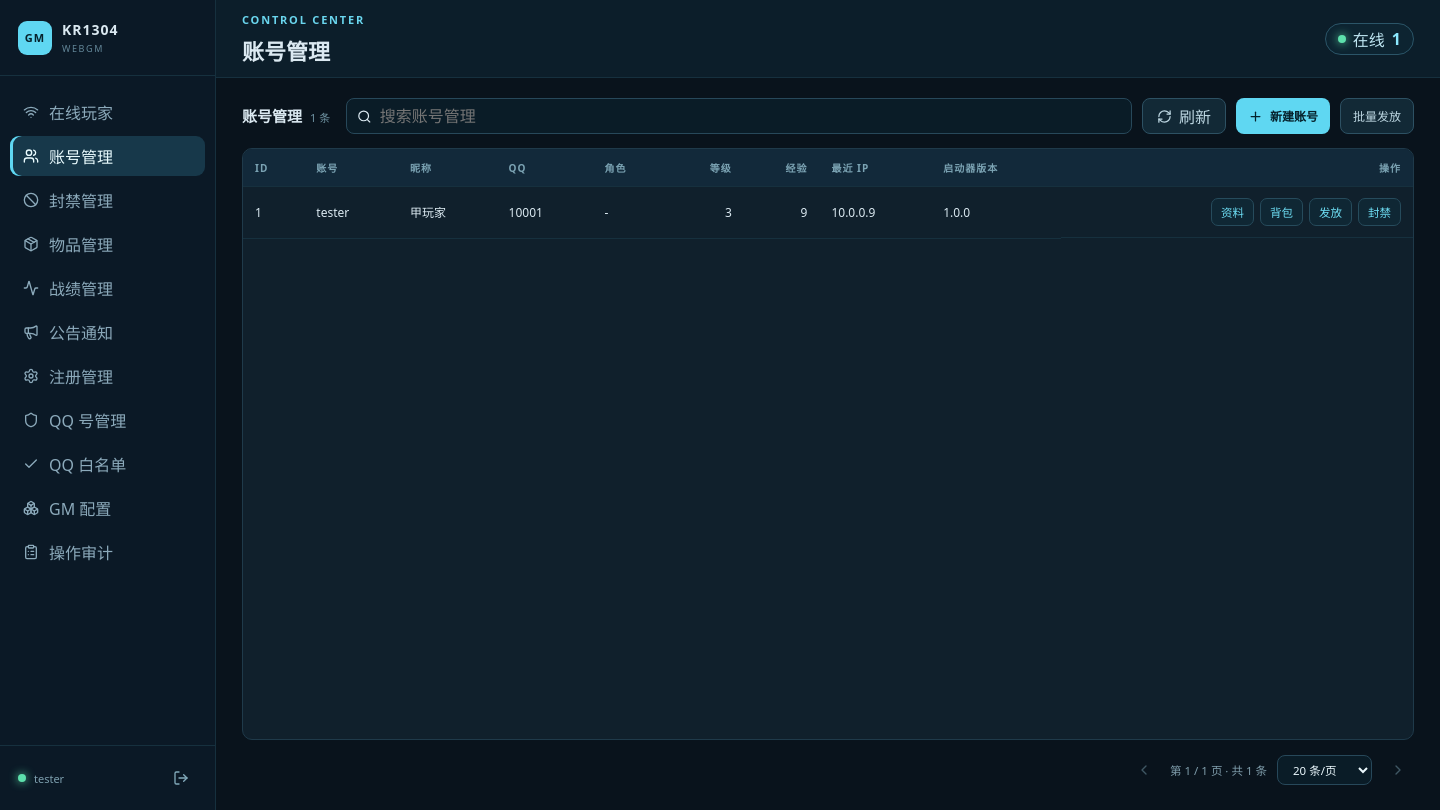
Test case: WebGM 页面 › 资料与钱包：角色 ID 选成具体角色，并且有外观颜色
Click the button "资料" at (1232,212), box top-left (1211, 198), bottom-right (1254, 226)
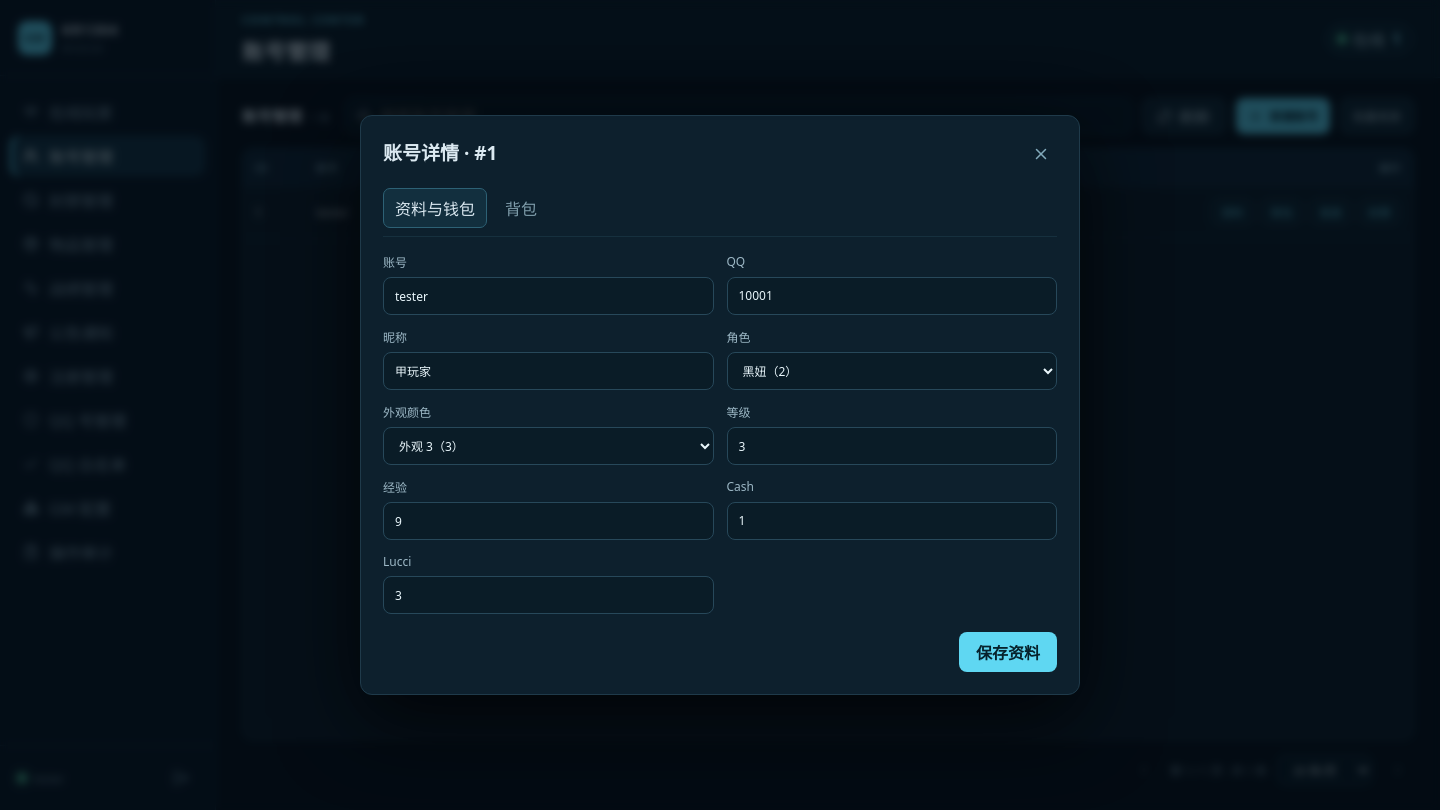
Now the element with class "modal-panel" shows "外观颜色", box top-left (383, 404), bottom-right (431, 421)
Now the dropdown labelled "角色" shows "黑妞（2）", box top-left (726, 352), bottom-right (1057, 390)
